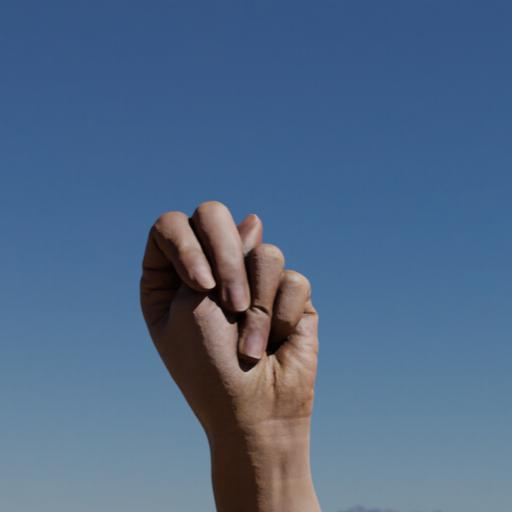N: (103, 187, 346, 441)
